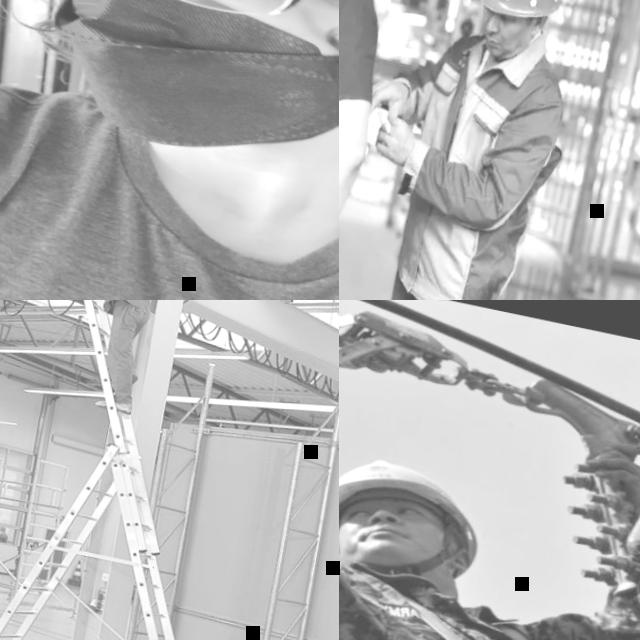Hardhat: (467, 0, 574, 26)
Mask: (31, 0, 339, 193)
NO-Mask: (339, 505, 468, 570), (482, 30, 518, 62)
NO-Safety Vest: (0, 66, 339, 300), (384, 32, 562, 300), (339, 570, 596, 640)
Person: (0, 0, 339, 300), (339, 330, 640, 640), (339, 0, 601, 300), (339, 0, 434, 300), (339, 443, 491, 580), (47, 300, 175, 415)
